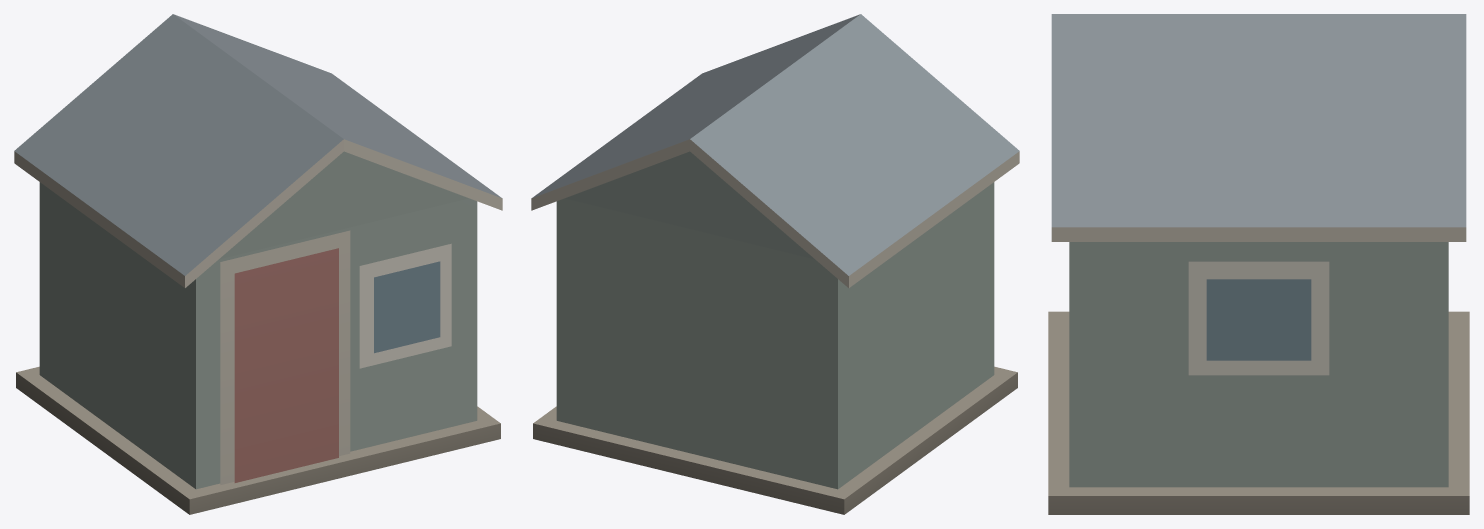
File: shed.lod2.glb
3 renders of one model, left to right at view 1: azimuth 30°, elevation 25°; view 2: azimuth 150°, elevation 25°; view 3: azimuth 270°, elevation 25°, orthographic. The views are drawn at different scales.
Bounding box in the file's own units: 2.98 × 3.02 × 2.82.
